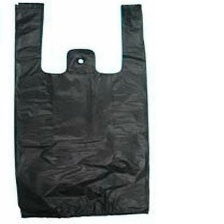plastic_bag: (8, 0, 160, 221)
